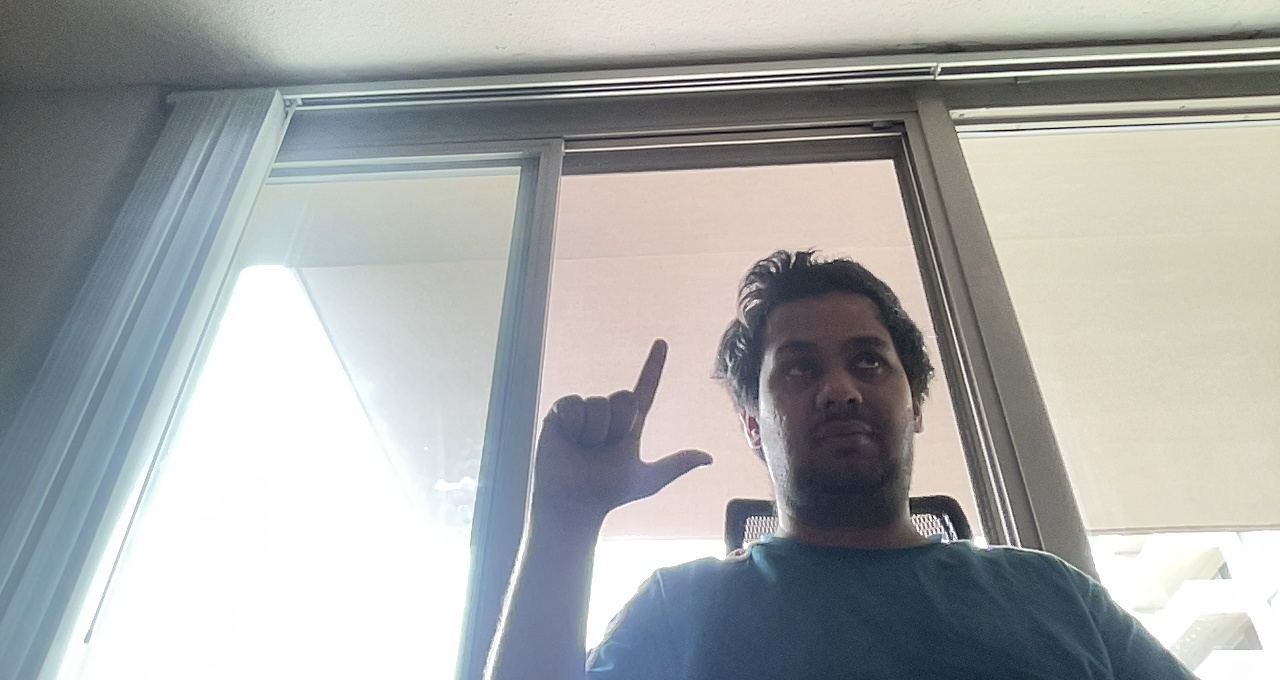L: (529, 336, 720, 517)
